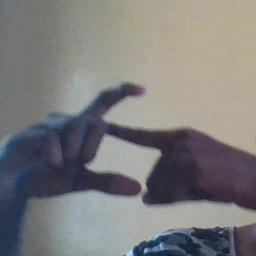E: (66, 79, 180, 200)
